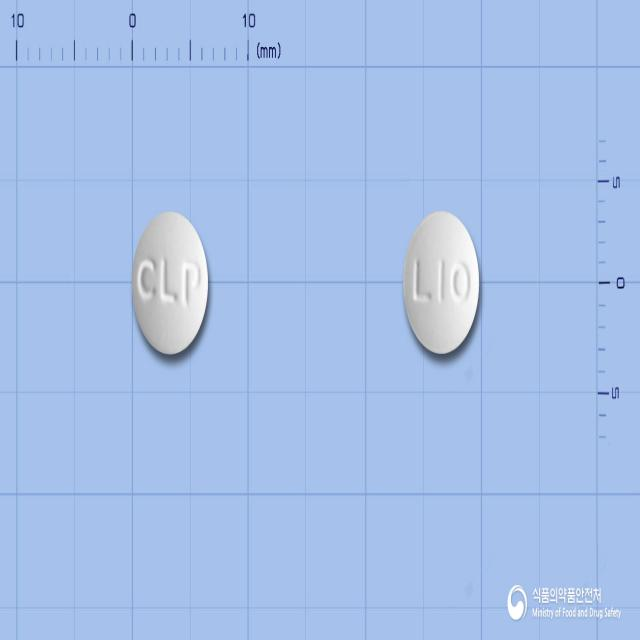Luarva - 20mg: (132, 208, 211, 356), (404, 211, 481, 357)
